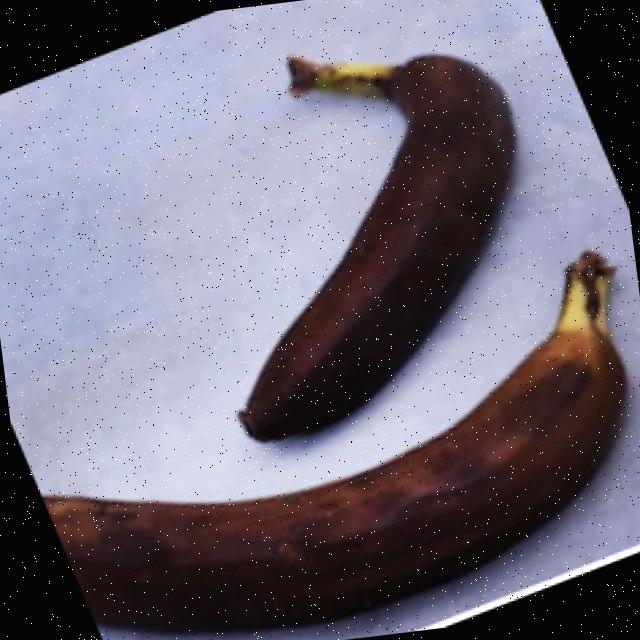rotten banana: (25, 270, 640, 640), (179, 19, 549, 455)
